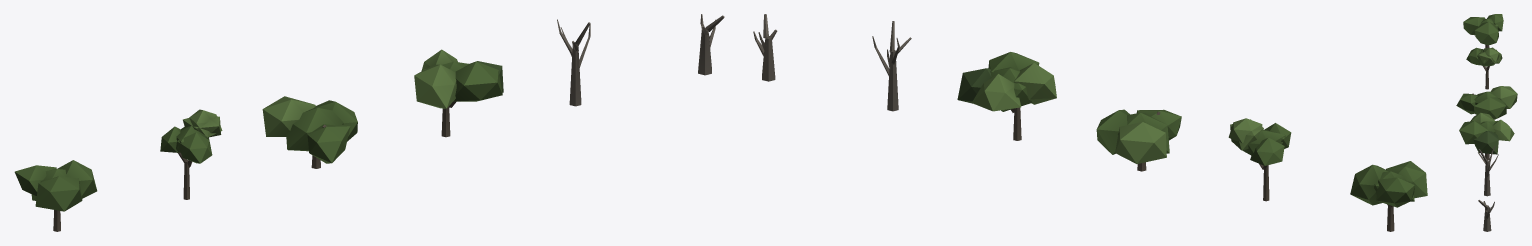
The model's file is broadleaf_kit.glb.
3 renders of one model, left to right at view 1: azimuth 30°, elevation 25°; view 2: azimuth 150°, elevation 25°; view 3: azimuth 270°, elevation 25°, orthographic. The views are drawn at different scales.
Visible parts, largest first — view 1: tree_broadleaf_c, tree_broadleaf_d, tree_broadleaf_a, tree_broadleaf_b, tree_dead_a, tree_dead_b; view 2: tree_broadleaf_d, tree_broadleaf_c, tree_broadleaf_a, tree_broadleaf_b, tree_dead_a, tree_dead_b; view 3: tree_broadleaf_d, tree_broadleaf_c, tree_broadleaf_a, tree_broadleaf_b, tree_dead_a, tree_dead_b.
Part boxes in pixels (box(x1,y1,x2,y2)): tree_broadleaf_c: box(262, 96, 357, 168); tree_broadleaf_d: box(414, 49, 503, 137); tree_broadleaf_a: box(14, 160, 97, 231); tree_broadleaf_b: box(160, 109, 222, 199); tree_dead_a: box(557, 19, 590, 106); tree_dead_b: box(698, 14, 724, 75); tree_broadleaf_d: box(957, 52, 1056, 140); tree_broadleaf_c: box(1096, 109, 1181, 171); tree_broadleaf_a: box(1350, 161, 1427, 231); tree_broadleaf_b: box(1228, 118, 1291, 201); tree_dead_a: box(872, 21, 911, 111); tree_dead_b: box(753, 14, 777, 81); tree_broadleaf_d: box(1459, 112, 1514, 160); tree_broadleaf_c: box(1456, 86, 1517, 119); tree_broadleaf_a: box(1463, 14, 1503, 48); tree_broadleaf_b: box(1466, 47, 1502, 89); tree_dead_a: box(1478, 146, 1498, 196); tree_dead_b: box(1478, 200, 1494, 231).
Bounding box in the file's own units: 10.67 × 1.25 × 1.47.
